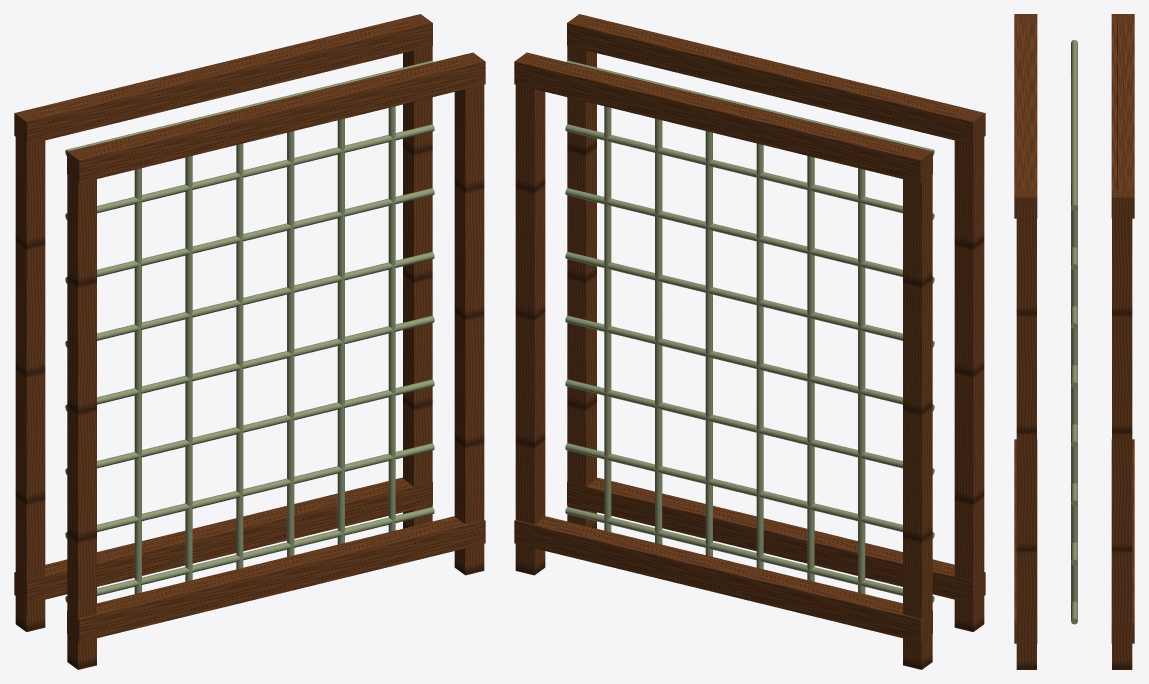
The model's file is prehistoric-survivor-settlement-hide-stretching-frame-39a7e13b__23215.glb.
3 renders of one model, left to right at view 1: azimuth 30°, elevation 25°; view 2: azimuth 150°, elevation 25°; view 3: azimuth 270°, elevation 25°, orthographic. The views are drawn at different scales.
Parts seen in each view (by area): view 1: hide-stretching-frame; view 2: hide-stretching-frame; view 3: hide-stretching-frame.
Part boxes in pixels (left/top/right/bottom): hide-stretching-frame: left=14, top=14, right=485, bottom=669; hide-stretching-frame: left=514, top=14, right=985, bottom=669; hide-stretching-frame: left=1014, top=14, right=1134, bottom=669.
Size of the model in its own units: 1.5 by 1.8 by 0.416.
2 materials, 1 textured.
